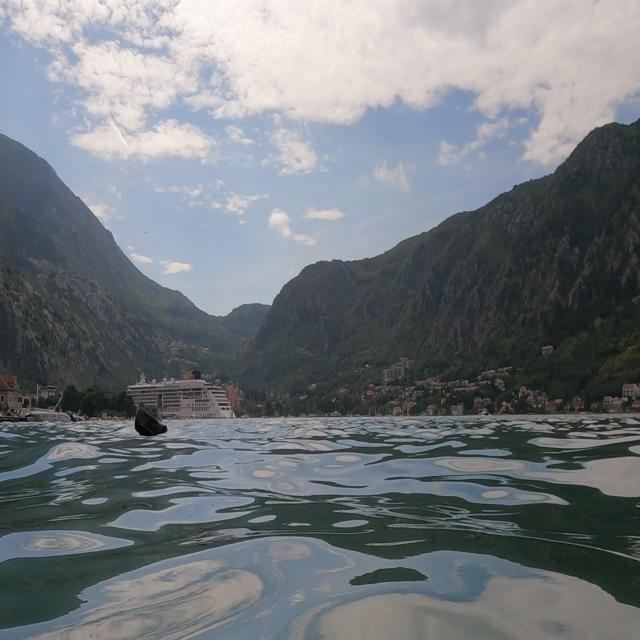boat: (125, 364, 236, 434)
buoy: (130, 398, 170, 452)
